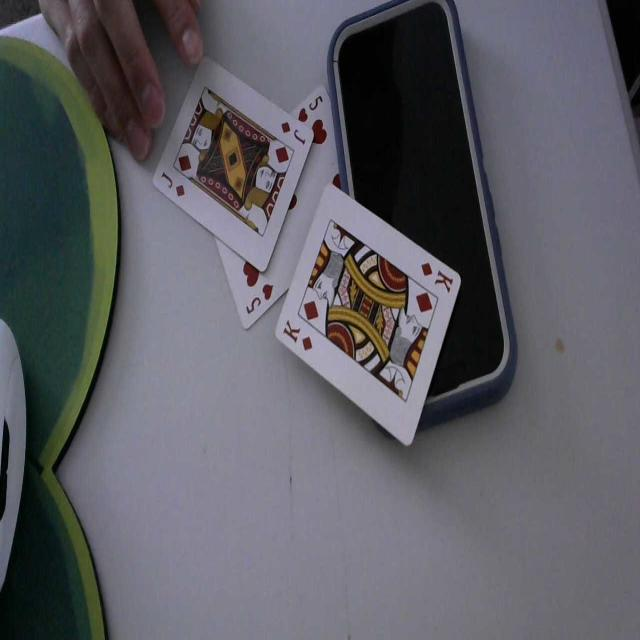5H: (244, 283, 274, 318), (297, 92, 325, 122)
JD: (280, 118, 307, 148), (161, 170, 187, 200)
KD: (419, 260, 455, 298), (281, 317, 315, 351)
